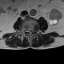CCS_stenosis: (29, 29, 31, 36)
LFS_stenosis: (32, 29, 34, 33)
LLS_stenosis: (31, 29, 32, 34)
RFS_normal: (26, 28, 28, 33)
RLS_stenosis: (28, 29, 29, 34)
